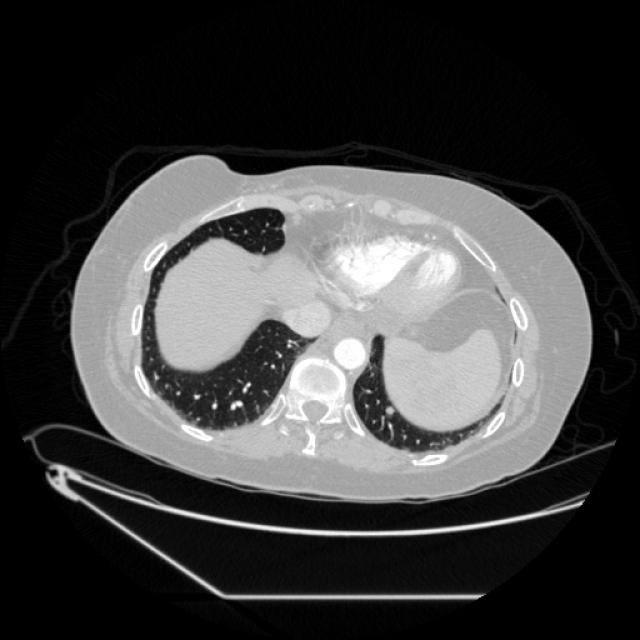nodule: (379, 399, 399, 419)
